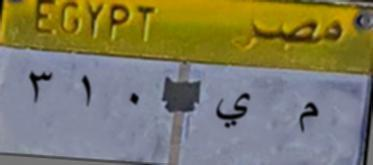0: (118, 88, 149, 114)
1: (72, 68, 100, 116)
3: (22, 64, 56, 113)
meem: (286, 90, 331, 143)
yaa: (209, 83, 256, 136)
